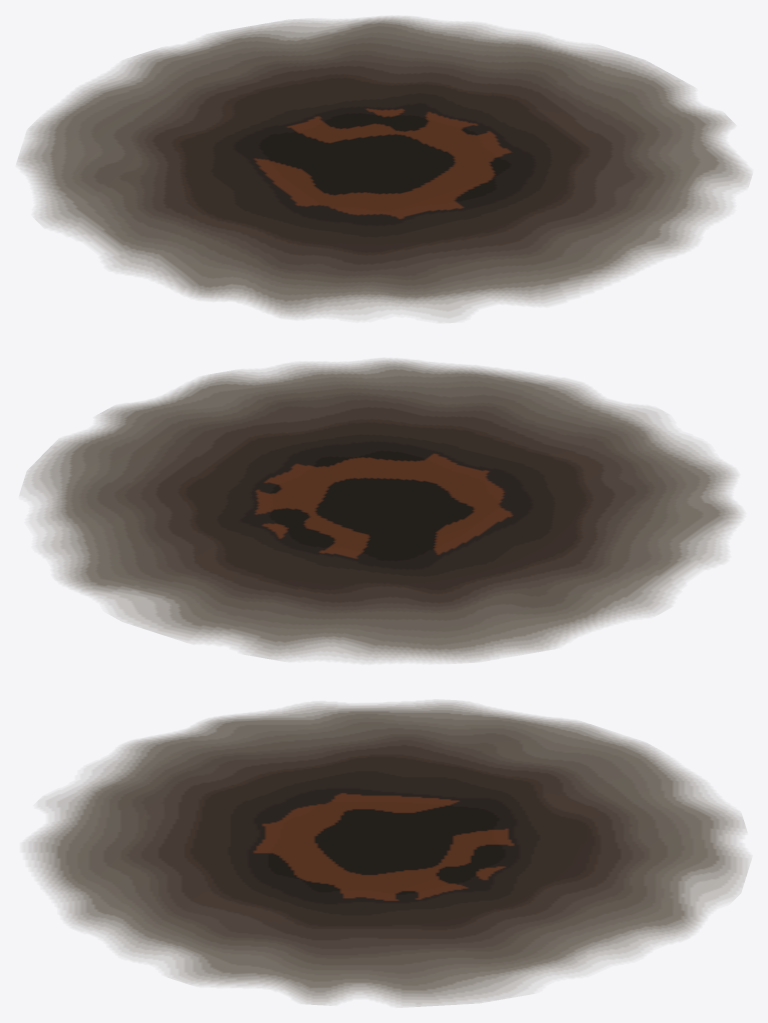
Rendered from marca_queimado.glb.
3 views of the same model, one above another, from view 1: azimuth 30°, elevation 25°; view 2: azimuth 150°, elevation 25°; view 3: azimuth 270°, elevation 25° (orthographic).
Visible parts, largest first — view 1: marca_queimado; view 2: marca_queimado; view 3: marca_queimado.
Part boxes in pixels (left/top/right/bottom): marca_queimado: left=16, top=16, right=751, bottom=322; marca_queimado: left=20, top=358, right=743, bottom=663; marca_queimado: left=23, top=700, right=751, bottom=1007.
Bounding box in the file's own units: 1 × 0.01 × 1.
1 material, 1 textured.
